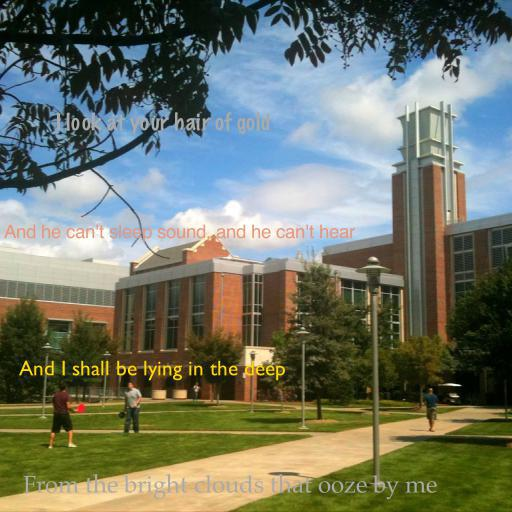Big Caslon: (3, 224, 355, 242)
Gill Sans: (18, 360, 286, 381)
Marker Felt: (56, 112, 270, 135)
Palatino: (23, 473, 437, 500)
